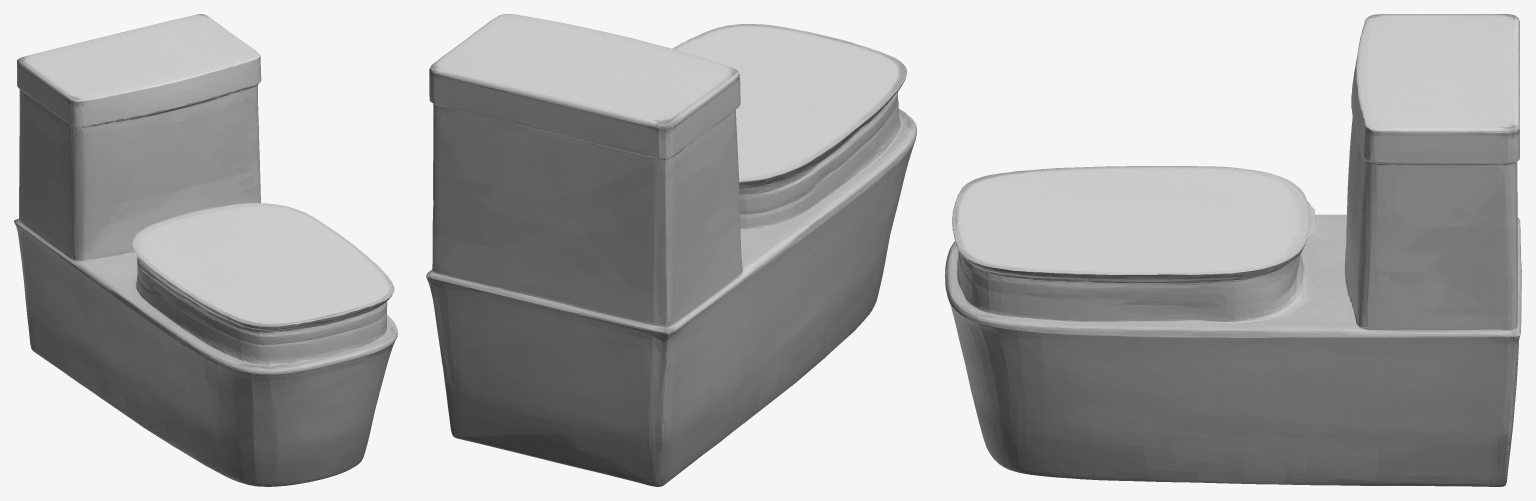
3 views of the same model, side by side, from view 1: azimuth 30°, elevation 25°; view 2: azimuth 150°, elevation 25°; view 3: azimuth 270°, elevation 25° (orthographic). The views are drawn at different scales.
Parts seen in each view (by area): view 1: world; view 2: world; view 3: world.
Boxes of the visible parts, left/top/right/bottom form: world: left=14, top=14, right=397, bottom=486; world: left=426, top=14, right=916, bottom=486; world: left=945, top=14, right=1521, bottom=486.
Size of the model in its own units: 0.4845 by 0.7056 by 0.996.
1 material, 1 textured.
